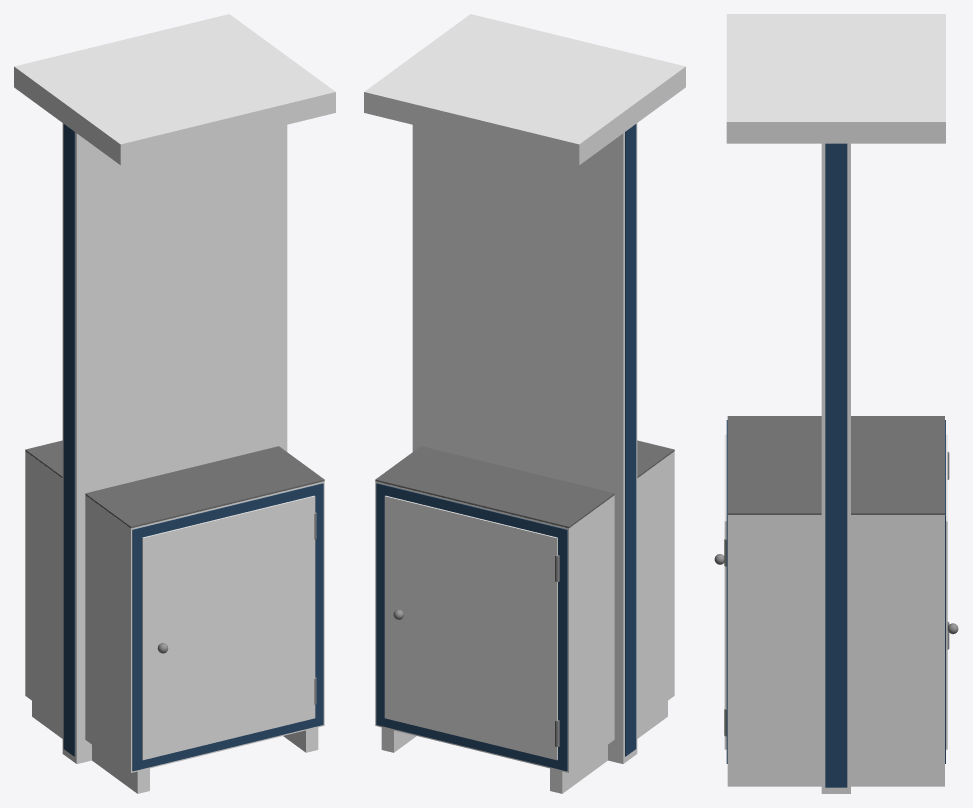
The model's file is virtualWP.glb.
3 renders of one model, left to right at view 1: azimuth 30°, elevation 25°; view 2: azimuth 150°, elevation 25°; view 3: azimuth 270°, elevation 25°, orthographic. The views are drawn at different scales.
Parts seen in each view (by area): view 1: Cube, Cube.11, Cube.1, Cube.6, Cube.7, Cube.2, Cube.3, Cube.4, Cube.5; view 2: Cube, Cube.11, Cube.1, Cube.6, Cube.7, Cube.2, Cube.3, Cube.4, Cube.5; view 3: Cube.6, Cube.1, Cube.7, Cube.3, Cube, Cube.5, Cube.11, Cube.2.
Part boxes in pixels (bbox=[...]): Cube: bbox=[62, 123, 287, 763]; Cube.11: bbox=[142, 495, 315, 760]; Cube.1: bbox=[14, 14, 335, 165]; Cube.6: bbox=[25, 451, 324, 772]; Cube.7: bbox=[25, 440, 324, 528]; Cube.2: bbox=[132, 483, 323, 771]; Cube.3: bbox=[63, 124, 74, 756]; Cube.4: bbox=[32, 701, 149, 793]; Cube.5: bbox=[283, 727, 318, 752]; Cube: bbox=[412, 123, 637, 763]; Cube.11: bbox=[384, 495, 557, 760]; Cube.1: bbox=[364, 14, 685, 165]; Cube.6: bbox=[375, 451, 674, 772]; Cube.7: bbox=[375, 440, 674, 528]; Cube.2: bbox=[376, 483, 567, 771]; Cube.3: bbox=[625, 124, 636, 756]; Cube.4: bbox=[550, 701, 667, 793]; Cube.5: bbox=[381, 727, 416, 752]; Cube.6: bbox=[727, 515, 944, 766]; Cube.1: bbox=[726, 14, 945, 143]; Cube.7: bbox=[727, 416, 944, 514]; Cube.3: bbox=[825, 143, 847, 787]; Cube: bbox=[821, 143, 850, 793]; Cube.5: bbox=[727, 766, 944, 786]; Cube.11: bbox=[724, 434, 947, 749]; Cube.2: bbox=[726, 420, 945, 763].
Size of the model in its own units: 0.7 by 2.03 by 0.6678.
